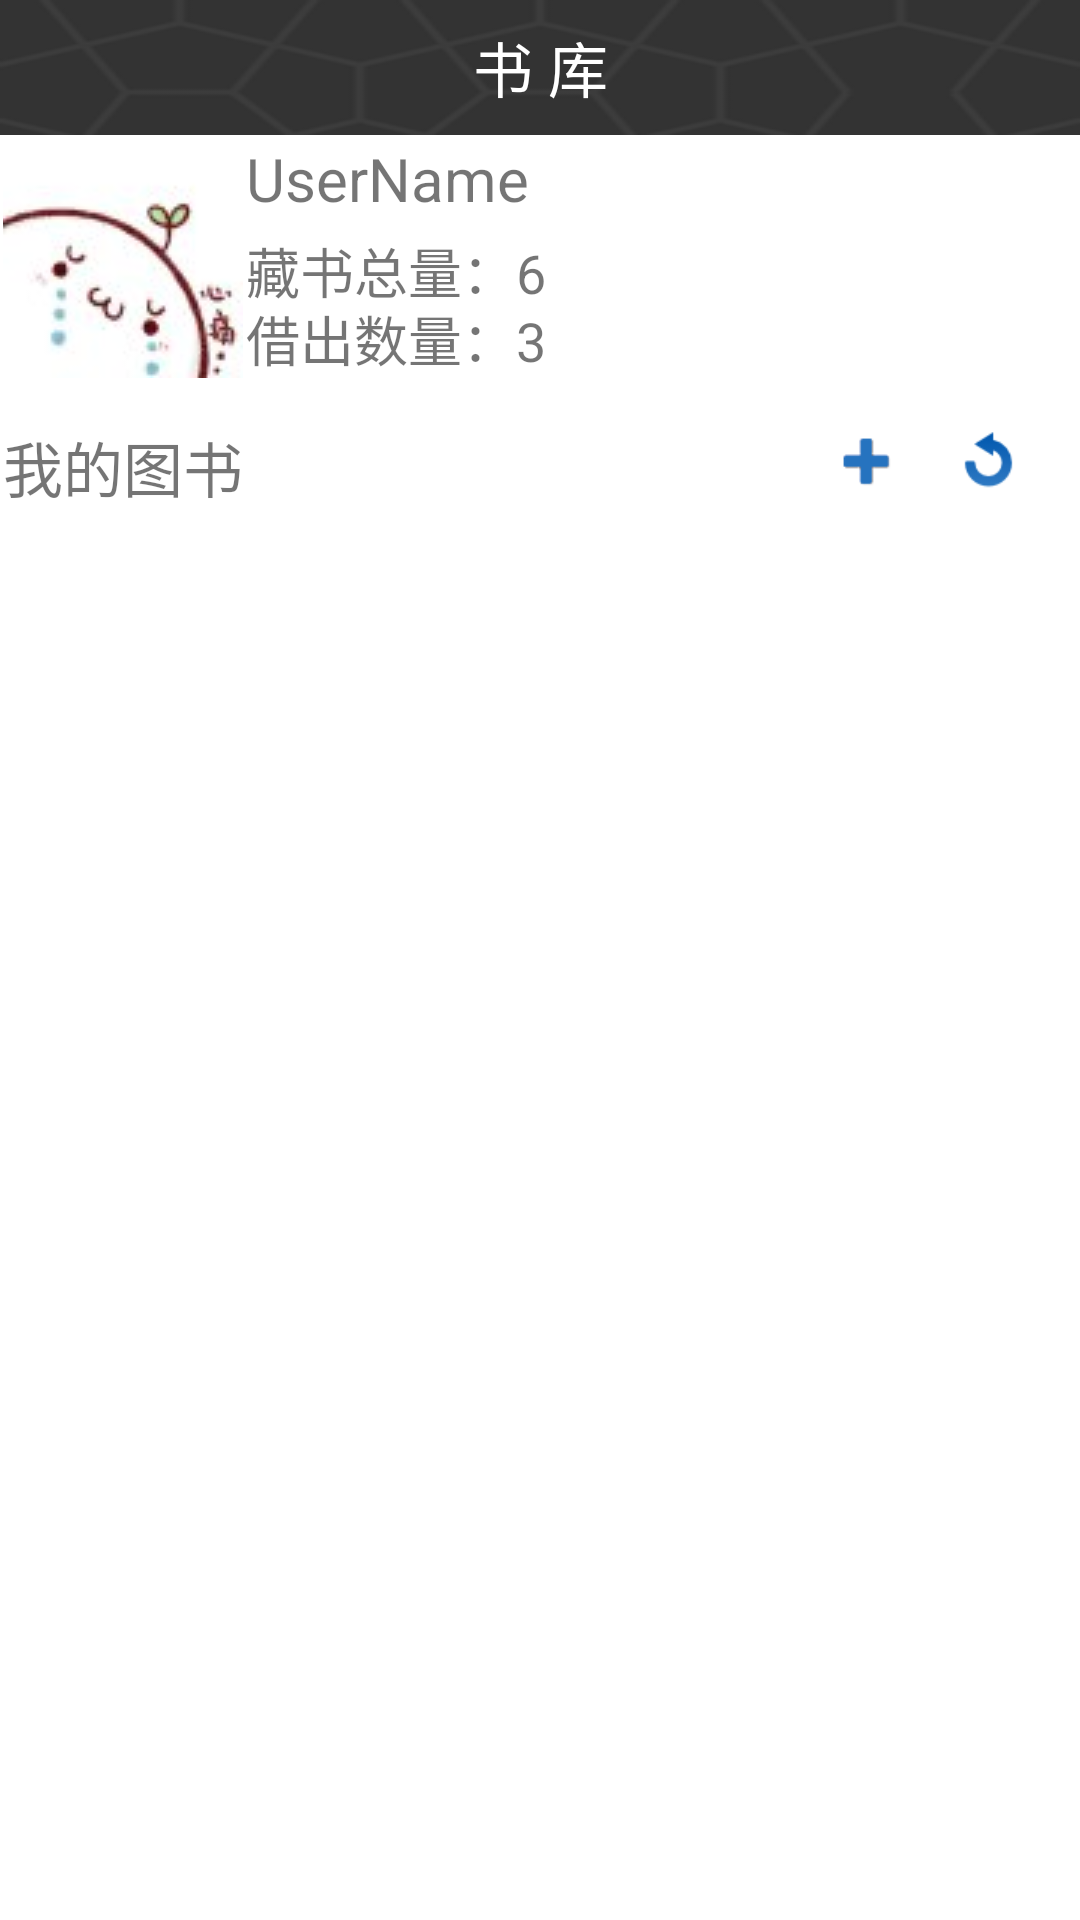

Where to tap for icons on this 1080w x 1920h app screen, as (x=x, y=y):
head: (x=120, y=290)
view add: (x=866, y=461)
view refresh: (x=988, y=459)
